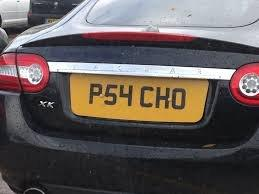Liscence Plate: (88, 80, 188, 113)
